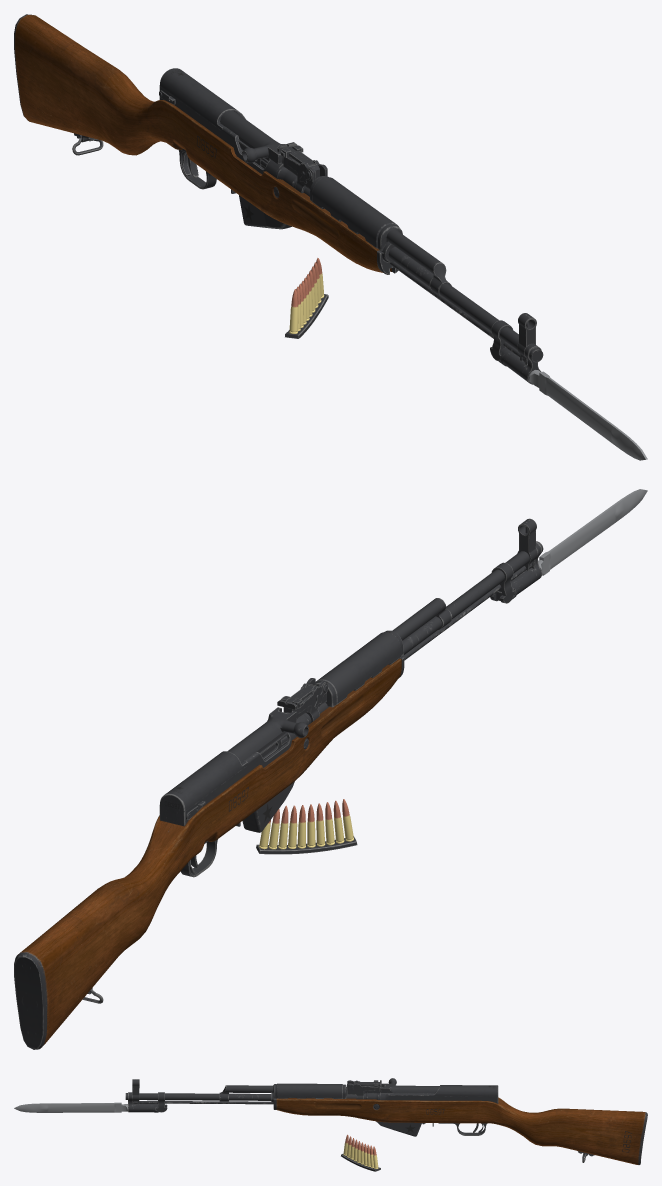
File: sks_semi_automatic_rifle.glb
The picture shows the model from 3 angles, top to bottom: view 1: azimuth 30°, elevation 25°; view 2: azimuth 150°, elevation 25°; view 3: azimuth 270°, elevation 25°; orthographic projection. The views are drawn at different scales.
Visible parts, largest first — view 1: SKS, bayonet, clip, bolt, fixed_mag; view 2: SKS, clip, bayonet, bolt, fixed_mag; view 3: SKS, bayonet, clip, bolt, fixed_mag.
Part boxes in pixels (box(x1,y1,x2,y2)): SKS: box(14, 14, 543, 365); bayonet: box(498, 343, 647, 460); clip: box(285, 258, 328, 338); bolt: box(220, 110, 287, 166); fixed_mag: box(239, 195, 291, 229); SKS: box(14, 518, 543, 1049); clip: box(256, 799, 357, 854); bayonet: box(496, 489, 647, 600); bolt: box(227, 707, 308, 762); fixed_mag: box(242, 781, 294, 832); SKS: box(125, 1079, 647, 1164); bayonet: box(14, 1092, 158, 1112); clip: box(341, 1134, 380, 1171); bolt: box(380, 1078, 439, 1093); fixed_mag: box(376, 1121, 421, 1136).
Size of the model in its own units: 0.0415 by 0.0914 by 0.616.
1 material, 1 textured.
